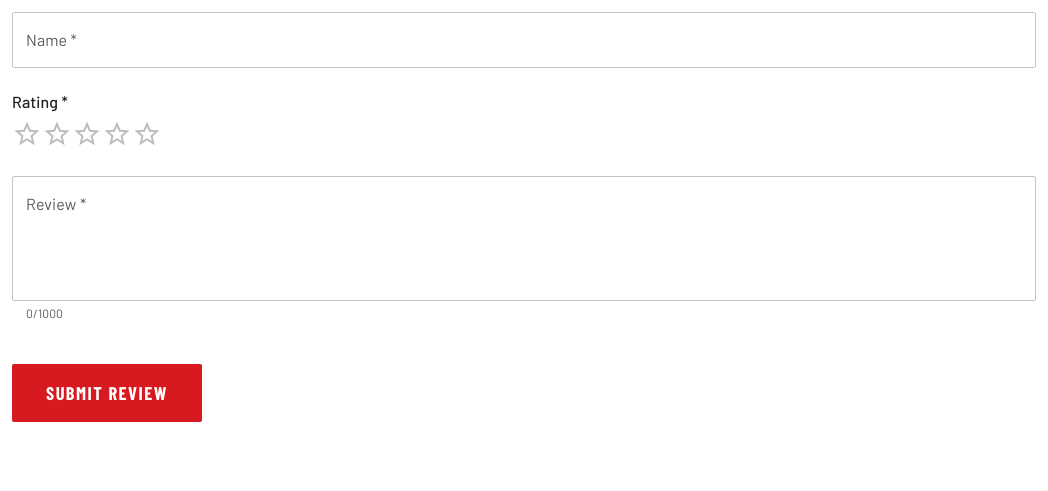
Scenario: ReviewForm › shows an error when submission fails
Type "Jane Doe" into the field labelled "Name *".
click(524, 40); type("Jane Doe")  # box [12, 12, 1036, 68]
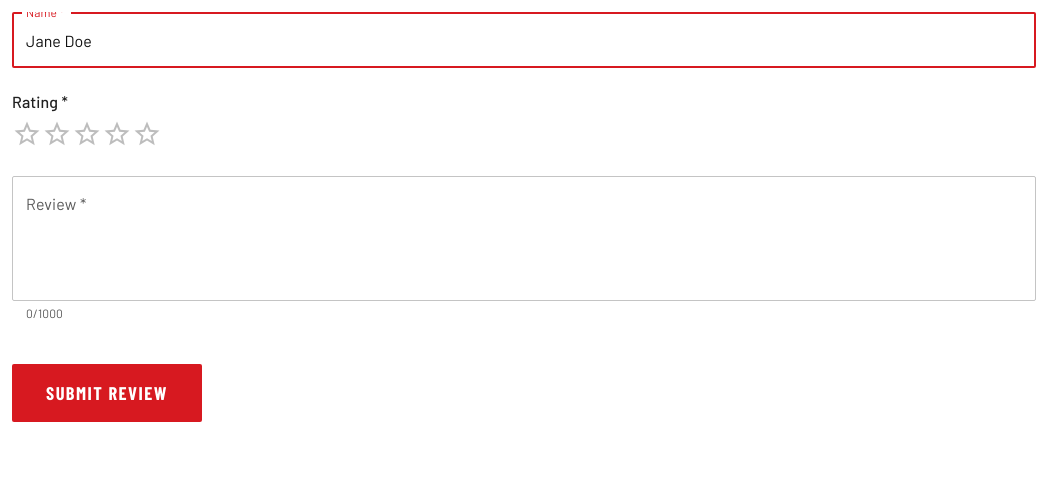
Click the radio button named "4 Stars".
click(117, 134)  # box [102, 119, 132, 149]
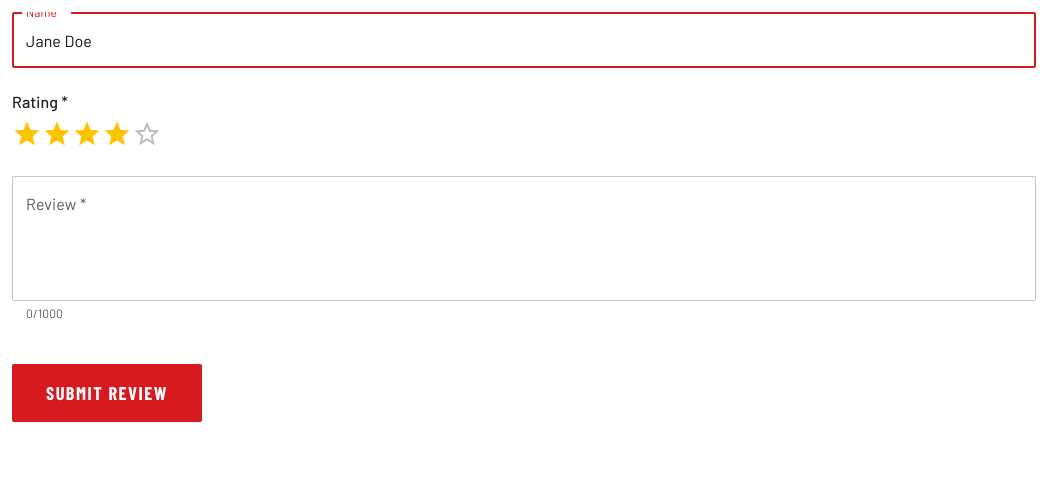
Type "Great trim work throughout the house." into the text box labelled "Review *".
click(524, 239); type("Great trim work throughout the house.")  # box [26, 193, 1022, 285]
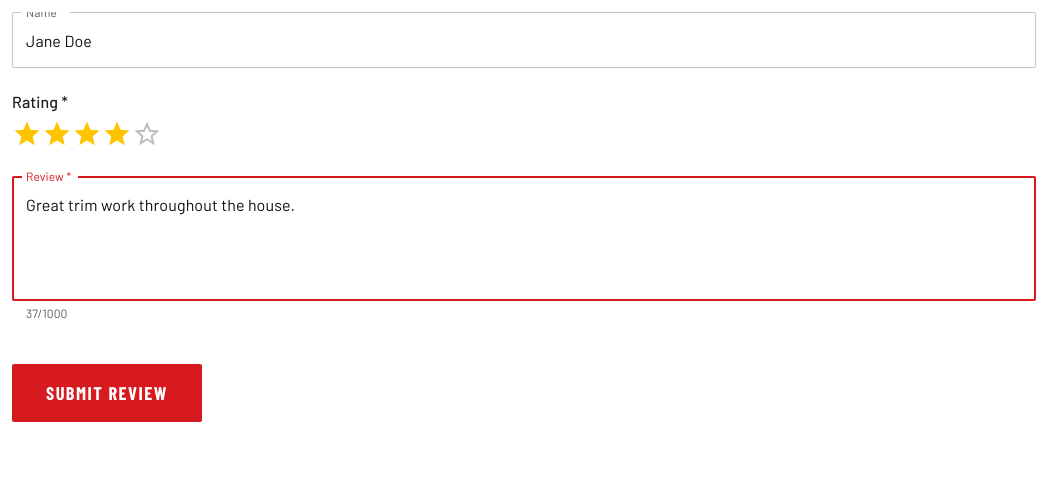
Click the button "Submit Review".
click(107, 393)  # box [12, 364, 202, 422]
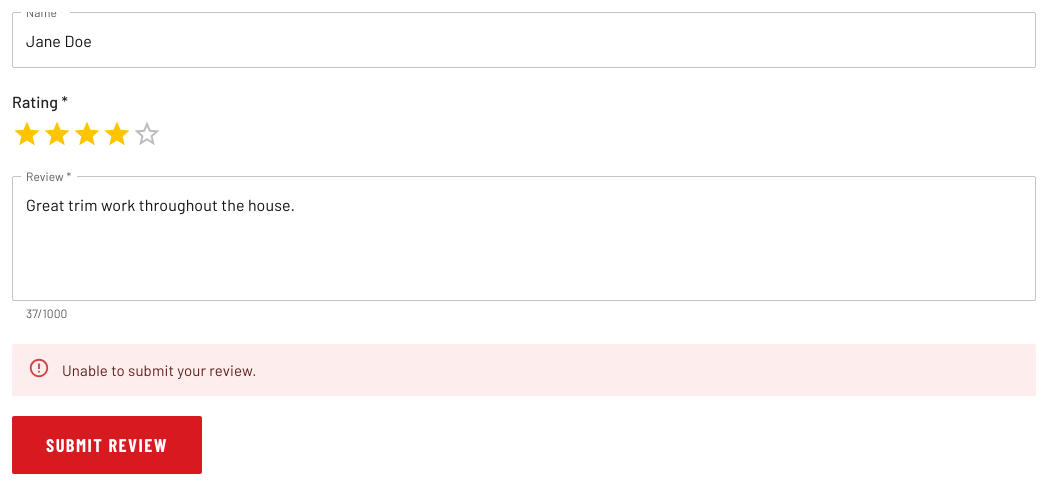
Expected: the text "Unable to submit your review." is shown, [62, 361, 257, 379]
